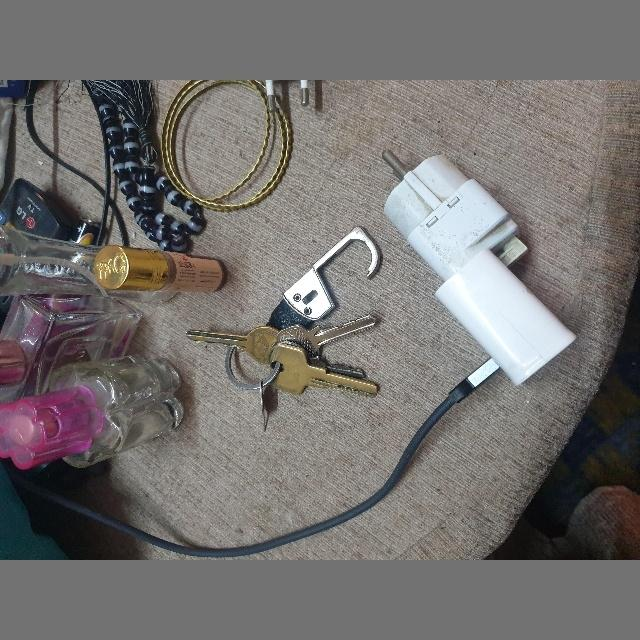Keys: (186, 225, 382, 395)
